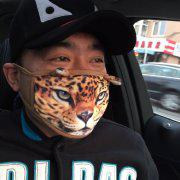OK: (26, 44, 115, 140)
